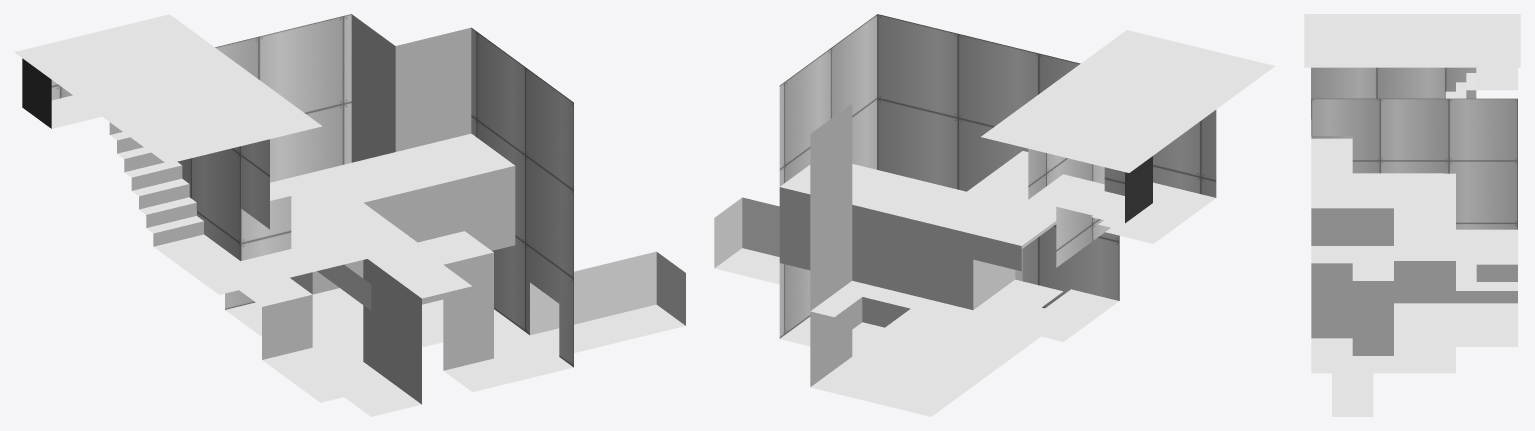
Rendered from Area3.gltf.
3 renders of one model, left to right at view 1: azimuth 30°, elevation 25°; view 2: azimuth 150°, elevation 25°; view 3: azimuth 270°, elevation 25°, orthographic. The views are drawn at different scales.
Parts seen in each view (by area): view 1: Area3; view 2: Area3; view 3: Area3.
Boxes of the visible parts, x1,y1,x2,y2 form: Area3: (14, 14, 685, 416); Area3: (714, 14, 1275, 416); Area3: (1304, 14, 1520, 416).
Size of the model in its own units: 42.5 by 23.19 by 20.93.
4 materials, 1 textured.
